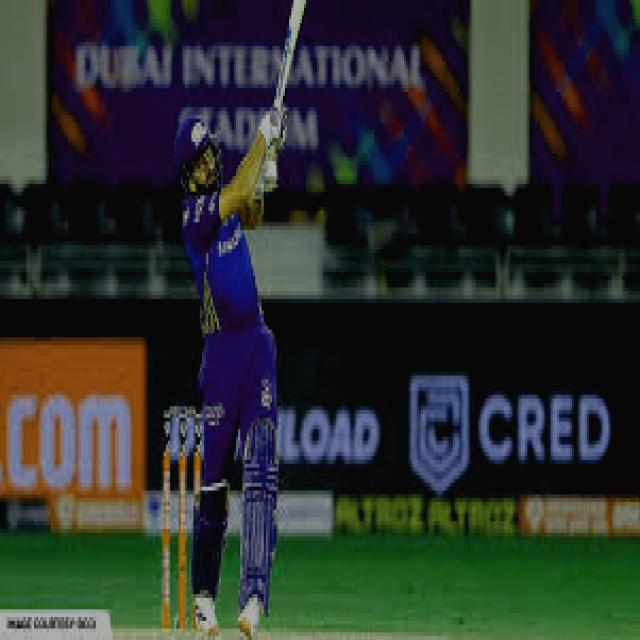toe: (289, 0, 308, 23)
